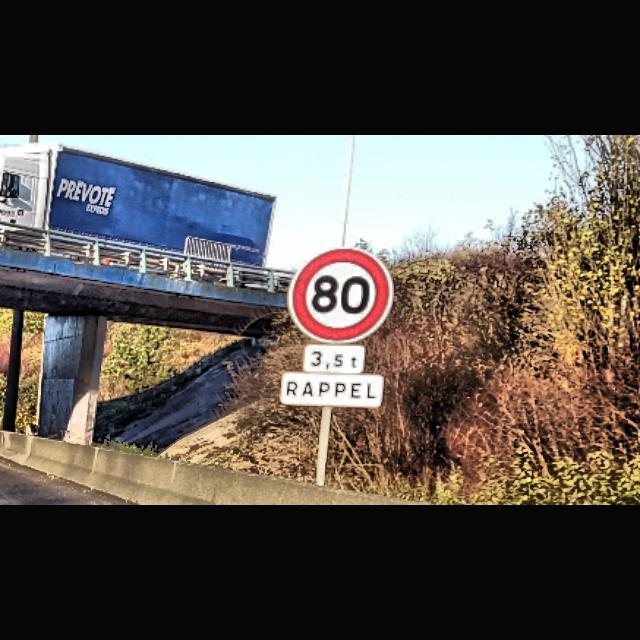speed_80: (289, 244, 393, 346)
